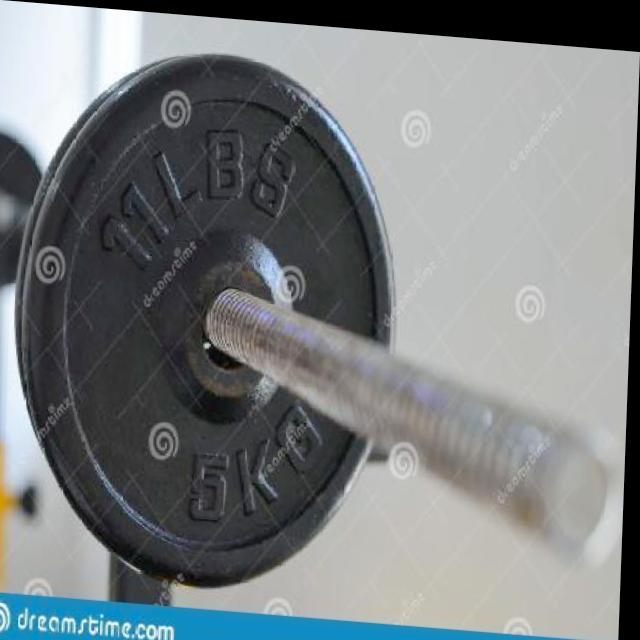barbell: (5, 35, 638, 615)
